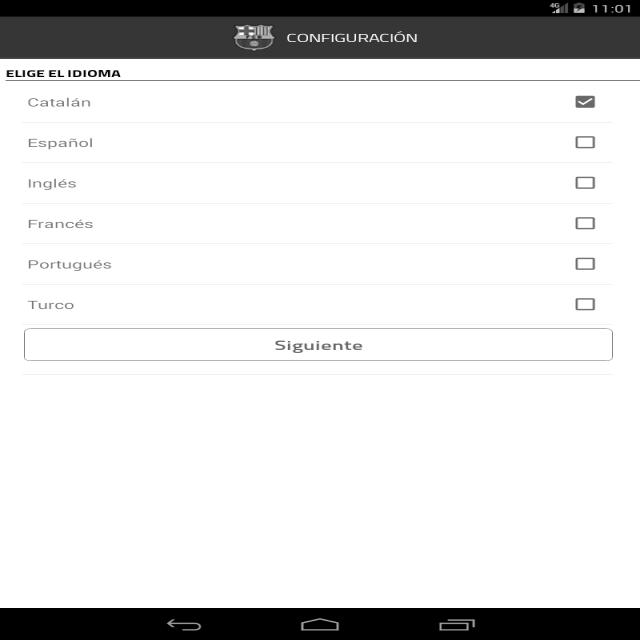Button: (18, 324, 617, 364)
CheckBox: (570, 88, 600, 113), (568, 130, 603, 151), (570, 293, 600, 313), (571, 213, 601, 232)
ImageButton: (227, 21, 279, 53)
TextView: (3, 66, 126, 80), (27, 254, 117, 272), (23, 93, 102, 110), (19, 174, 90, 192)
